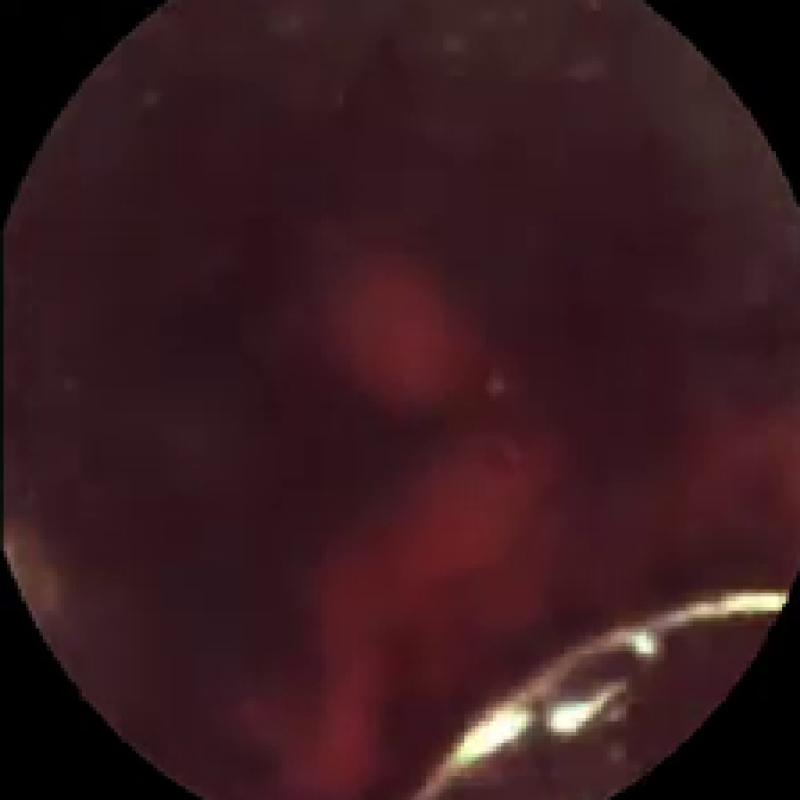bleeding: (261, 261, 568, 786), (659, 405, 792, 548)
